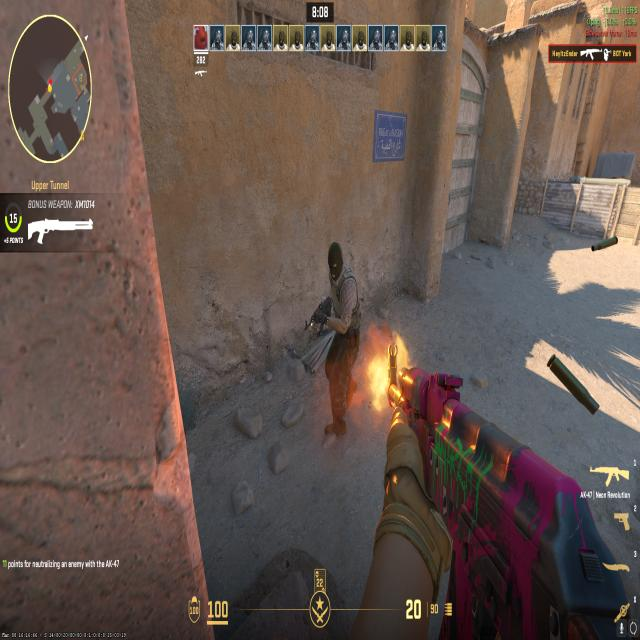t: (311, 230, 367, 444)
